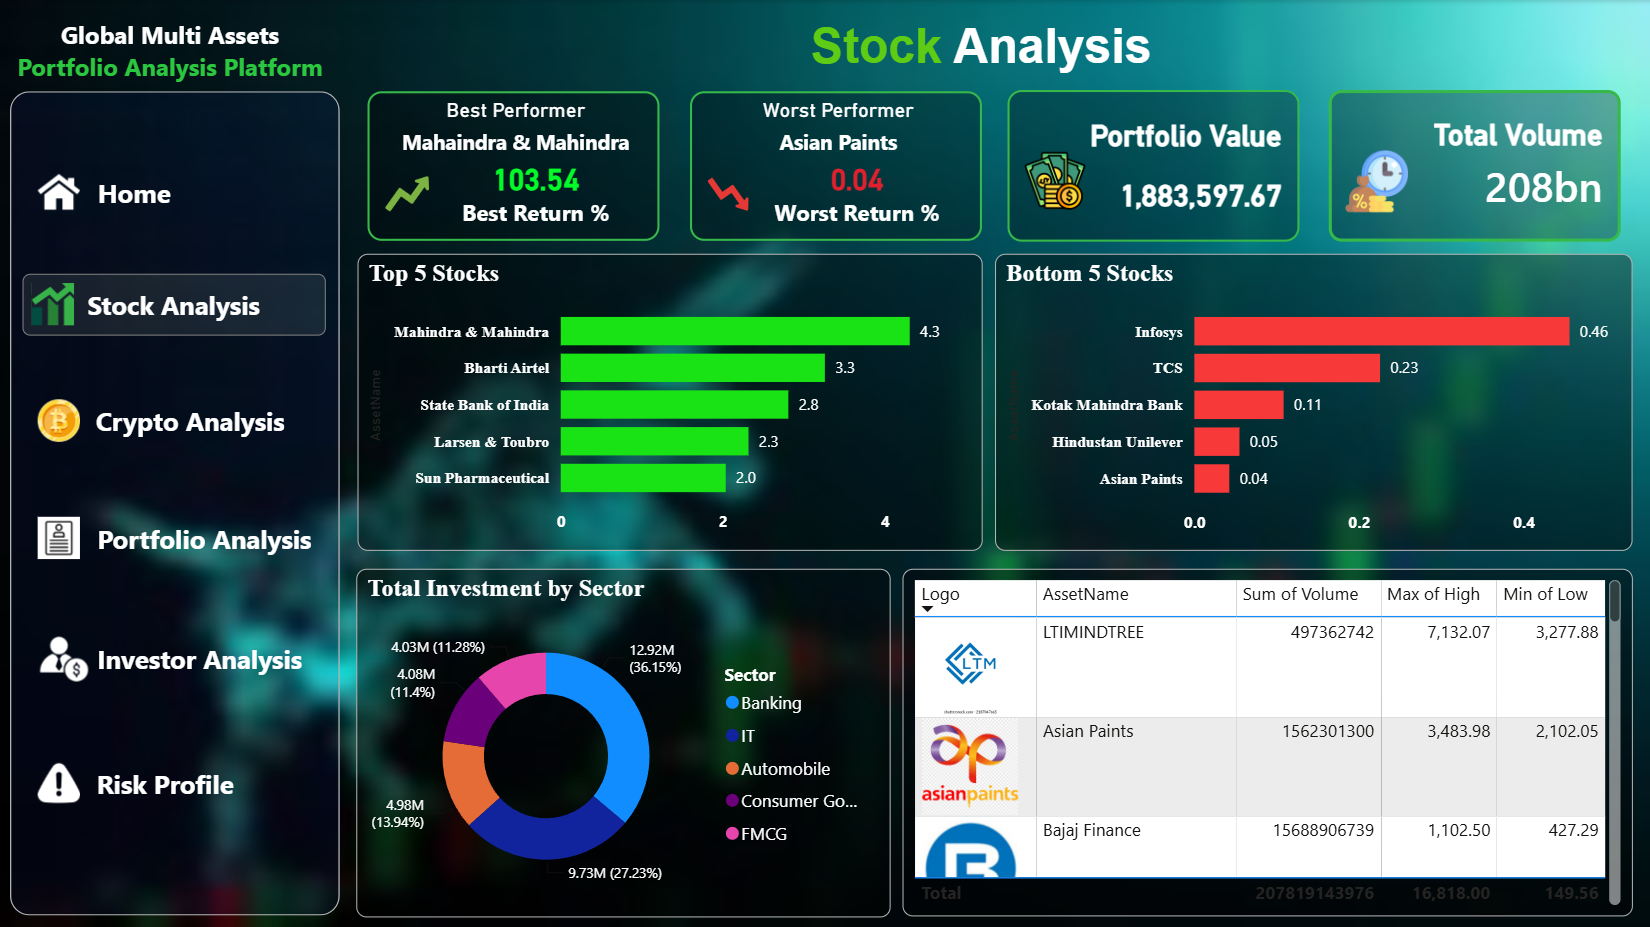

The page's visual inventory and layout, read from the dashboard file:
{"tool":"powerbi","page":{"name":"Stock Analysis","canvas":[1280,720],"ordinal":1},"visuals":[{"type":"textbox","box":[0,10,263.8,72.5],"z":0},{"type":"shape","box":[7.3,70.7,255.7,639.1],"z":1000},{"type":"group","id":"g1","title":"Group 2","box":[284.9,69.8,972.1,117.4],"z":2000},{"type":"actionButton","box":[25,125,111.2,47.5],"z":2000,"group":"g2"},{"type":"cardVisual","fields":{"Data":["Measure.Portfolio Value"]},"box":[781.4,69.8,226.7,117.4],"z":3000,"group":"g1"},{"type":"clusteredBarChart","title":"Top 5 Stocks","fields":{"Category":["Dim_Assets.AssetName"],"Y":["Measure.Return %"]},"box":[276.7,196.5,484.9,230.2],"z":3000},{"type":"actionButton","box":[25,302.4,199.5,47.8],"z":3000,"group":"g2"},{"type":"cardVisual","title":" ","fields":{"Data":["Measure.Total Stock Volume"]},"box":[1030.3,69.8,226.7,117.4],"z":4000,"group":"g1"},{"type":"clusteredBarChart","title":"Bottom 5 Stocks","fields":{"Category":["Dim_Assets.AssetName"],"Y":["Measure.Return %"]},"box":[771.1,196.4,494.7,230.7],"z":4000},{"type":"cardVisual","title":"Best Performer","fields":{"Data":["Measure.Best Return %"]},"box":[284.9,71,226.7,116.3],"z":5000,"group":"g1"},{"type":"actionButton","box":[17.7,212,234.9,47.8],"z":5000,"group":"g2"},{"type":"tableEx","fields":{"Values":["Dim_Assets.Logo","Dim_Assets.AssetName","Sum(Facts_stock.Volume)","Max(Facts_stock.High)","Min(Facts_stock.Low)"]},"box":[700,440.7,566.3,269.8],"z":5000},{"type":"cardVisual","title":"Worst Performer","fields":{"Data":["Measure.Worst Return %"]},"box":[534.9,71,226.7,116.3],"z":6000,"group":"g1"},{"type":"actionButton","box":[25,393.9,220.3,46.8],"z":6000,"group":"g2"},{"type":"donutChart","fields":{"Category":["Dim_Assets.Sector"],"Y":["Measure.Total Investment"]},"box":[276.4,440.6,414.7,270.2],"z":6000},{"type":"group","id":"g2","title":"Group 1","box":[17.7,125,234.9,504.8],"z":7000},{"type":"textbox","box":[595.4,9.3,331.4,54.7],"z":8000},{"type":"actionButton","box":[25,486.4,213,46.8],"z":8000,"group":"g2"},{"type":"actionButton","box":[25,583,160,46.8],"z":10000,"group":"g2"}]}

Visuals, with their boxes in screenshot pixels (x1, y1, x2, y2), scaled from the page's 1280x720 canvas onto the 1650x927 screenshot:
textbox: {"left": 0, "top": 13, "right": 340, "bottom": 106}
shape: {"left": 9, "top": 91, "right": 339, "bottom": 914}
"Group 2" group: {"left": 367, "top": 90, "right": 1620, "bottom": 241}
actionButton: {"left": 32, "top": 161, "right": 176, "bottom": 222}
cardVisual - Measure.Portfolio Value: {"left": 1007, "top": 90, "right": 1300, "bottom": 241}
"Top 5 Stocks" clusteredBarChart: {"left": 357, "top": 253, "right": 982, "bottom": 549}
actionButton: {"left": 32, "top": 389, "right": 289, "bottom": 451}
" " cardVisual: {"left": 1328, "top": 90, "right": 1620, "bottom": 241}
"Bottom 5 Stocks" clusteredBarChart: {"left": 994, "top": 253, "right": 1632, "bottom": 550}
"Best Performer" cardVisual: {"left": 367, "top": 91, "right": 659, "bottom": 241}
actionButton: {"left": 23, "top": 273, "right": 326, "bottom": 334}
tableEx - Dim_Assets.Logo x Dim_Assets.AssetName: {"left": 902, "top": 567, "right": 1632, "bottom": 915}
"Worst Performer" cardVisual: {"left": 690, "top": 91, "right": 982, "bottom": 241}
actionButton: {"left": 32, "top": 507, "right": 316, "bottom": 567}
donutChart - Dim_Assets.Sector x Measure.Total Investment: {"left": 356, "top": 567, "right": 891, "bottom": 915}
"Group 1" group: {"left": 23, "top": 161, "right": 326, "bottom": 811}
textbox: {"left": 768, "top": 12, "right": 1195, "bottom": 82}
actionButton: {"left": 32, "top": 626, "right": 307, "bottom": 686}
actionButton: {"left": 32, "top": 751, "right": 238, "bottom": 811}
